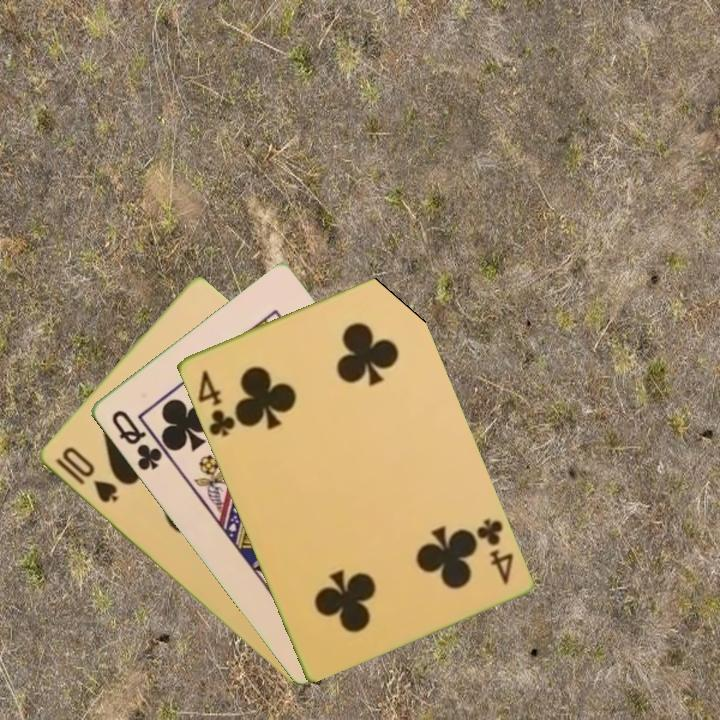10s: (52, 443, 121, 506)
4c: (193, 366, 238, 440), (472, 515, 516, 588)
Qc: (107, 406, 165, 474)
